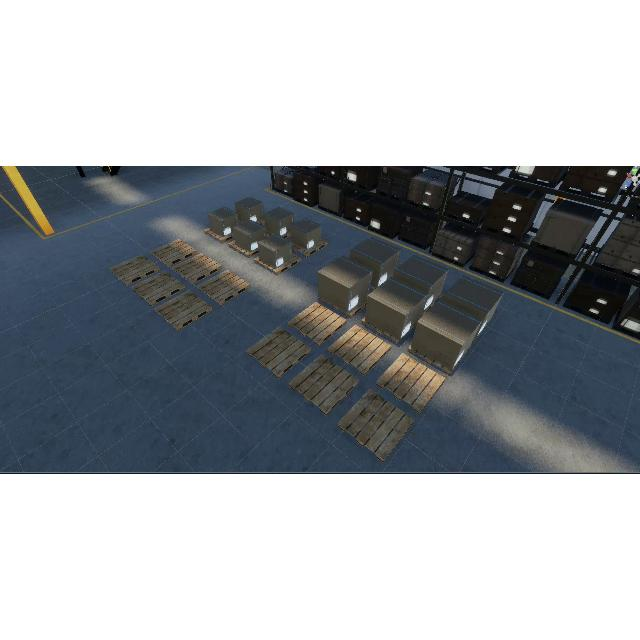wooden_pallet: (197, 269, 250, 305), (173, 253, 222, 284), (253, 253, 302, 276), (321, 298, 367, 318), (292, 238, 328, 258), (228, 240, 259, 259), (204, 228, 235, 243)
